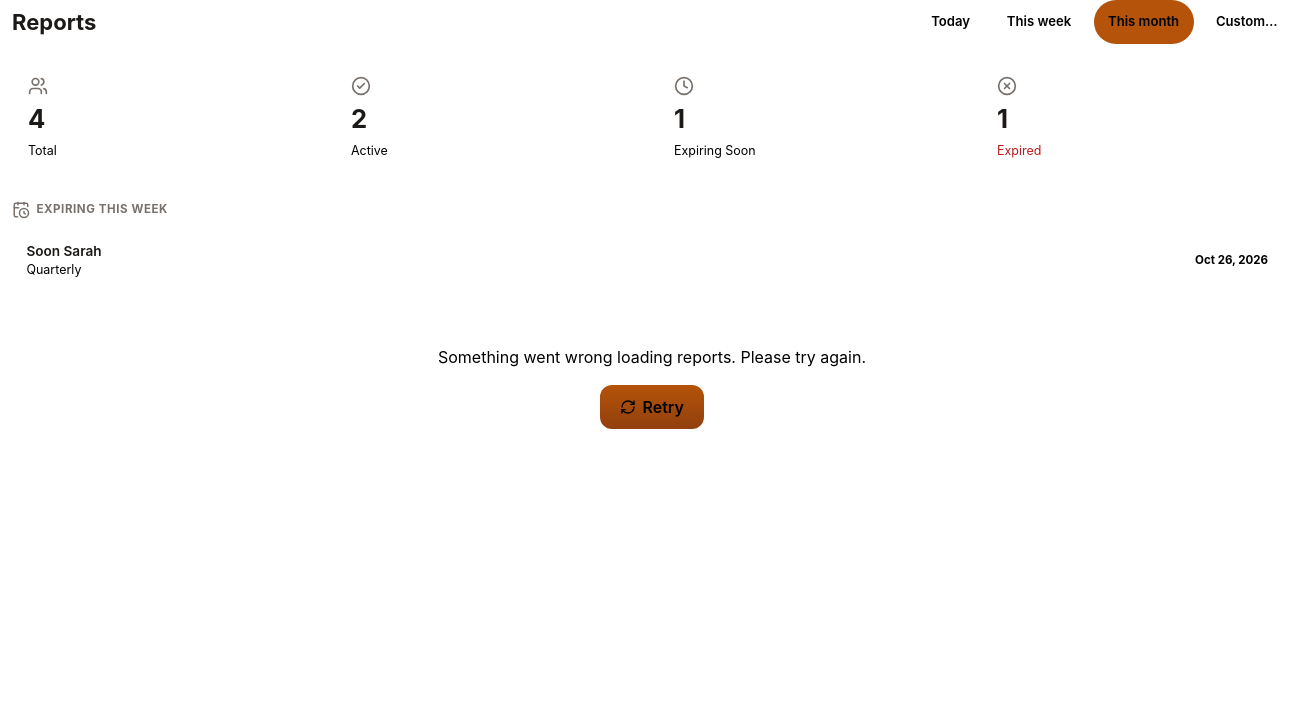
Test case: ReportsPage — the two sections load independently › a failing range section offers a Retry that re-runs the SAME range, leaving the summary alone
This screenshot has width=1304, height=720.
Expected: the text "Something went wrong loading reports. Please try again." is shown, [438, 347, 866, 367]
Click the button "Retry" at (652, 407), box [600, 385, 704, 429]
(page scrolled)
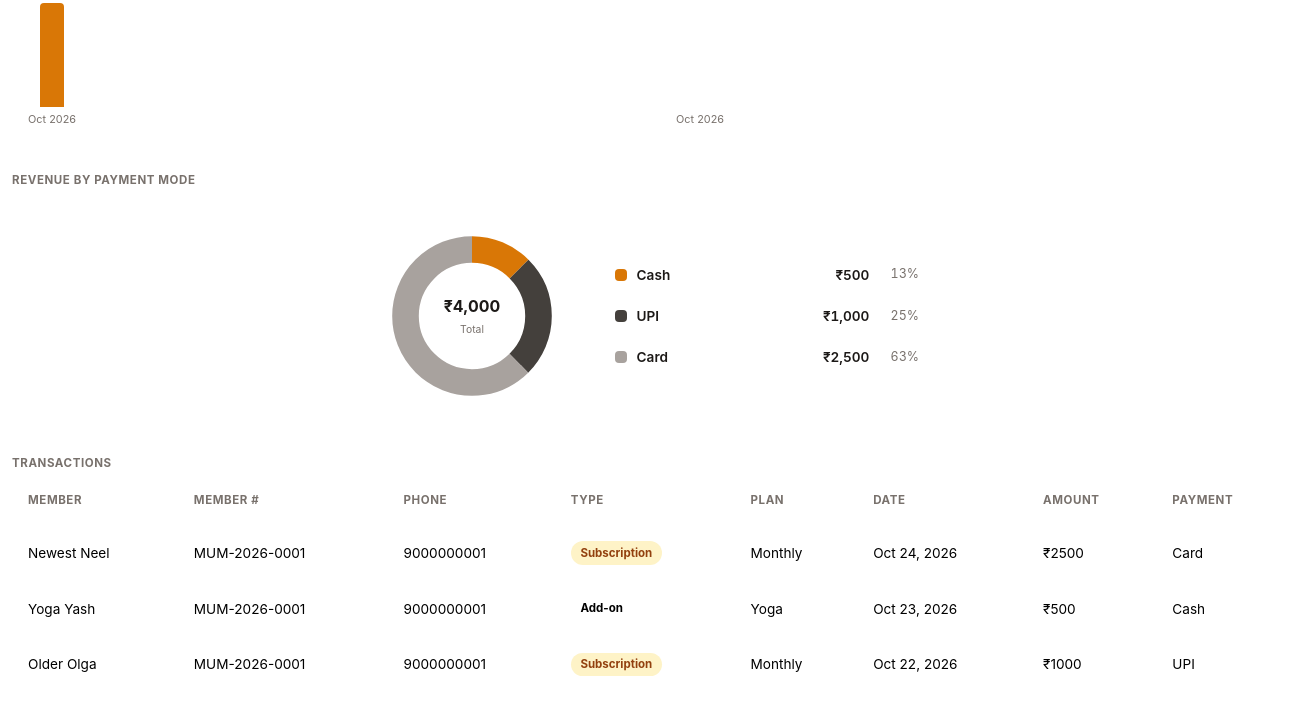
Expected: the table is shown, [12, 484, 1292, 696]
